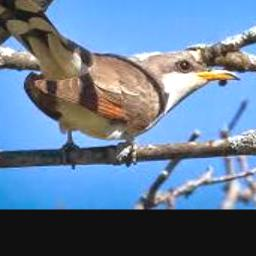Cuckoo: (0, 0, 241, 151)
